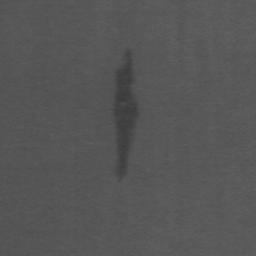Iron scale compression: (111, 50, 140, 180)
